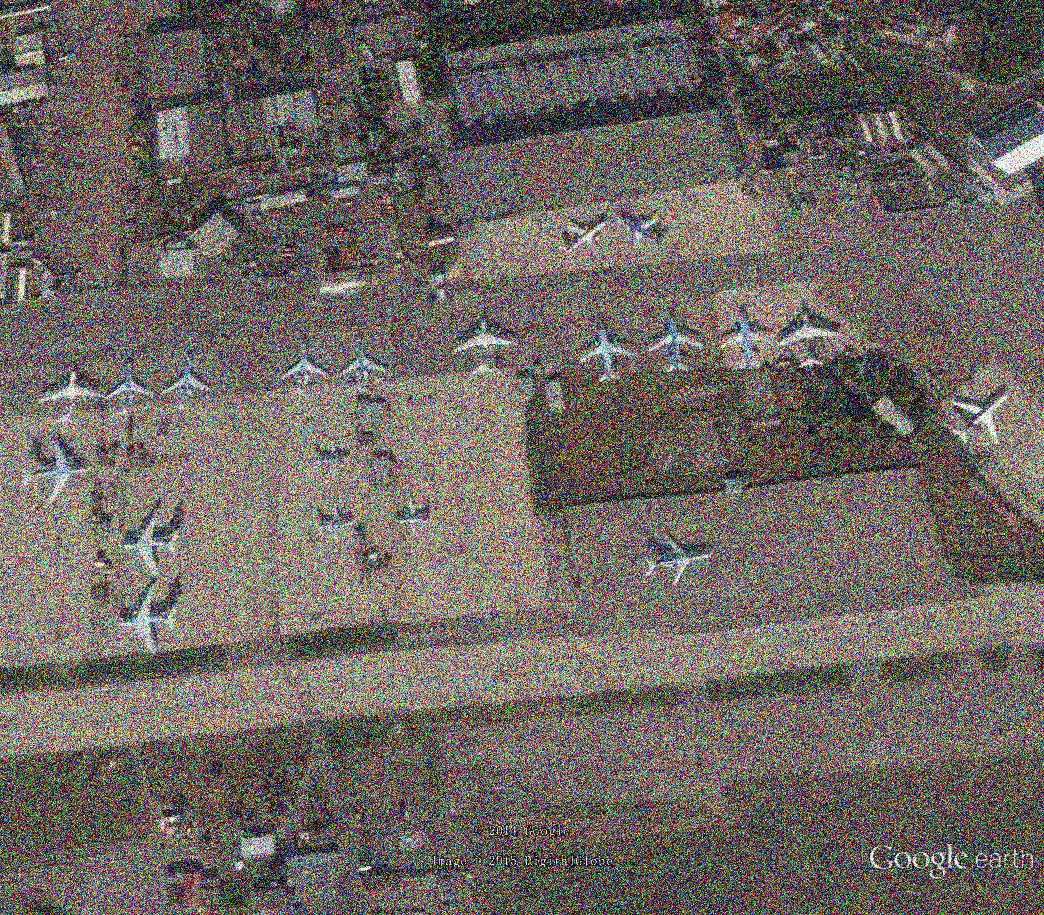aircraft: (114, 580, 183, 666), (637, 525, 717, 597), (16, 435, 91, 511), (33, 360, 114, 430), (118, 498, 184, 583), (774, 301, 847, 375), (448, 309, 519, 382), (577, 319, 646, 390), (645, 309, 706, 382), (714, 307, 780, 373), (948, 382, 1011, 451), (159, 349, 219, 418), (273, 336, 333, 402), (336, 330, 390, 400), (103, 357, 157, 421), (550, 216, 612, 268), (615, 210, 673, 258), (312, 499, 358, 555), (309, 430, 355, 483), (390, 492, 433, 544)
